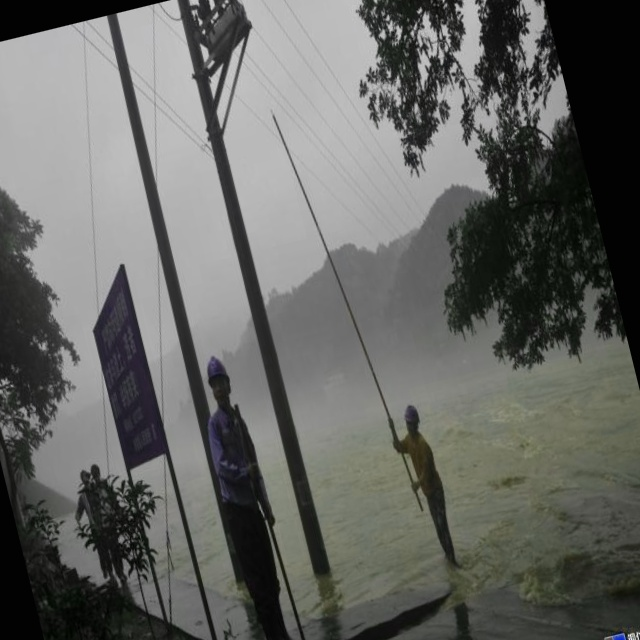Con_Casco: (201, 351, 238, 410), (399, 401, 422, 437)
